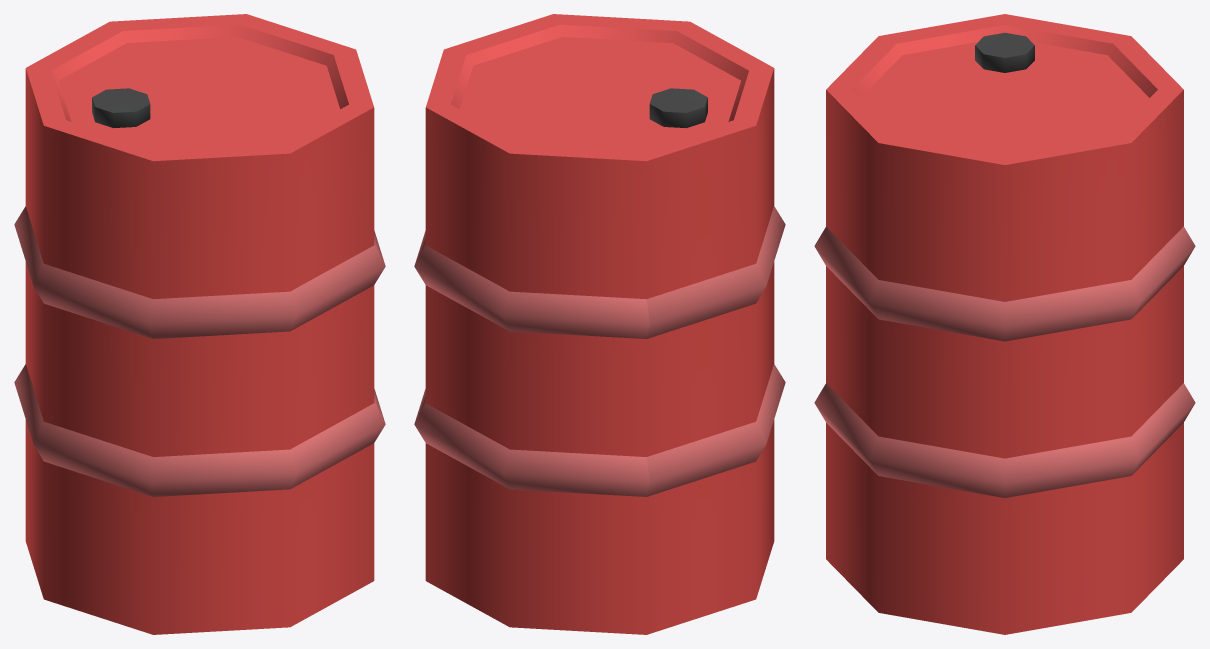
File: barrel_002.glb
3 views of the same model, side by side, from view 1: azimuth 30°, elevation 25°; view 2: azimuth 150°, elevation 25°; view 3: azimuth 270°, elevation 25° (orthographic).
Visible parts, largest first — view 1: barrel_002; view 2: barrel_002; view 3: barrel_002.
Boxes of the visible parts, box(x1,y1,x2,y2) form: barrel_002: box(14, 14, 385, 634); barrel_002: box(414, 14, 785, 634); barrel_002: box(814, 14, 1195, 634).
Size of the model in its own units: 0.6175 by 0.8504 by 0.6175.
1 material, 1 textured.
